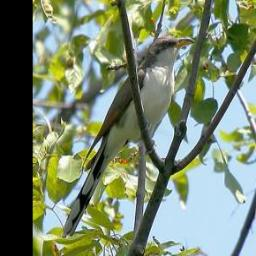Cuckoo: (61, 33, 196, 239)
